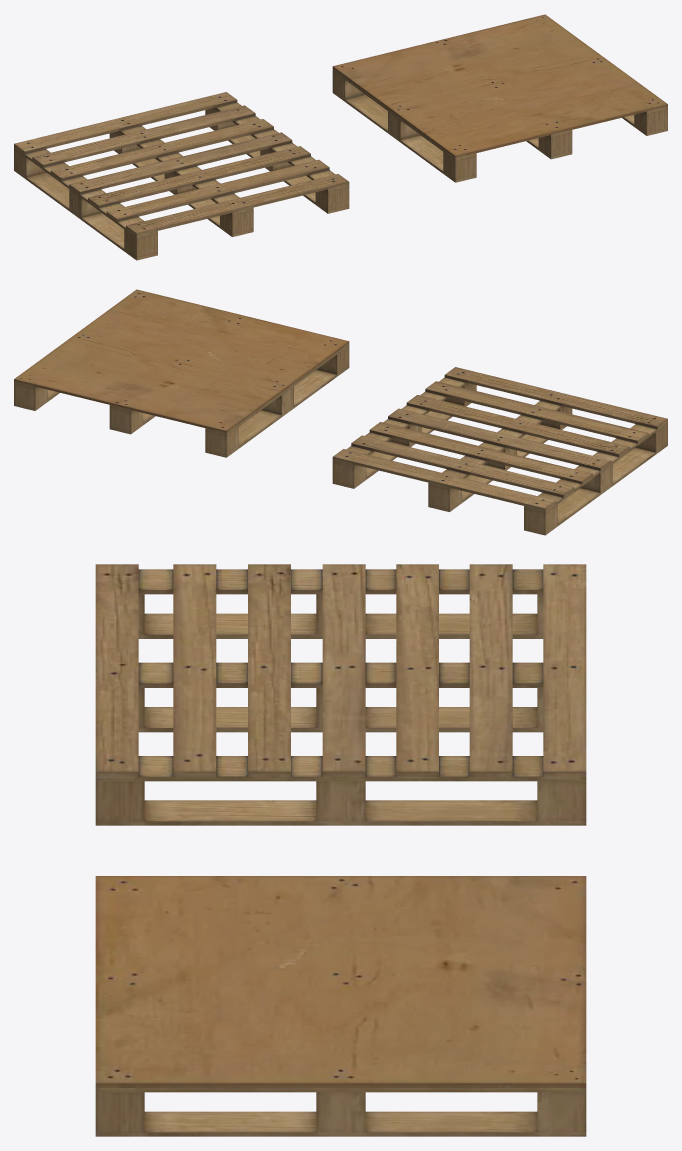
Rendered from pallet.glb.
3 views of the same model, one above another, from view 1: azimuth 30°, elevation 25°; view 2: azimuth 150°, elevation 25°; view 3: azimuth 270°, elevation 25° (orthographic). The views are drawn at different scales.
Parts seen in each view (by area): view 1: Pallet_2, Pallet_1; view 2: Pallet_2, Pallet_1; view 3: Pallet_2, Pallet_1.
Boxes of the visible parts, x1=… form: Pallet_2: x1=332, y1=14, x2=667, y2=182; Pallet_1: x1=14, y1=92, x2=349, y2=260; Pallet_2: x1=14, y1=289, x2=349, y2=457; Pallet_1: x1=332, y1=367, x2=667, y2=535; Pallet_2: x1=95, y1=876, x2=586, y2=1136; Pallet_1: x1=95, y1=564, x2=586, y2=825.
Size of the model in its own units: 5 by 0.2429 by 2.
2 materials, 2 textured.
